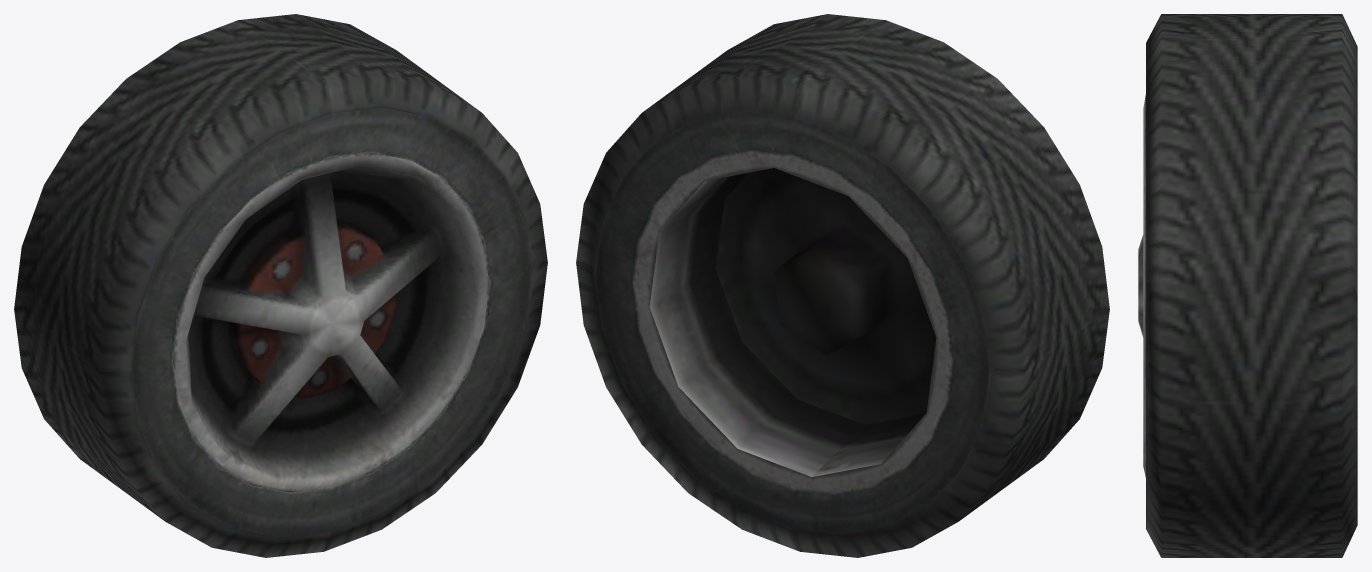
The model's file is V_A_ClassicMuscle_Wheels_3_SkeletalMesh3_SkeletalMesh_14.psk.glb.
3 views of the same model, side by side, from view 1: azimuth 30°, elevation 25°; view 2: azimuth 150°, elevation 25°; view 3: azimuth 270°, elevation 25° (orthographic). The views are drawn at different scales.
Bounding box in the file's own units: 67.92 × 67.92 × 27.32.
1 material, 1 textured.
